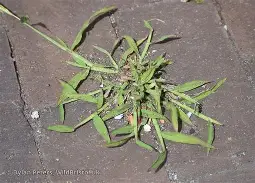weed: (52, 27, 220, 154)
